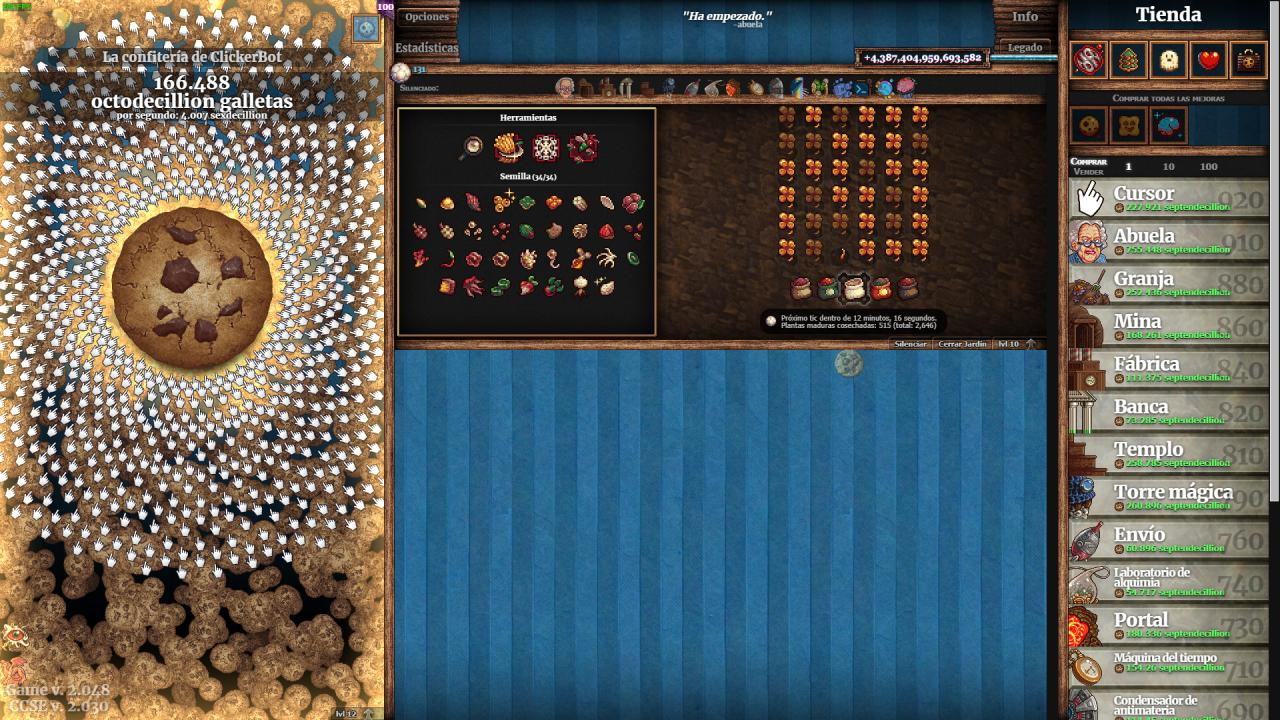GoldenCookie: (833, 347, 865, 380)
